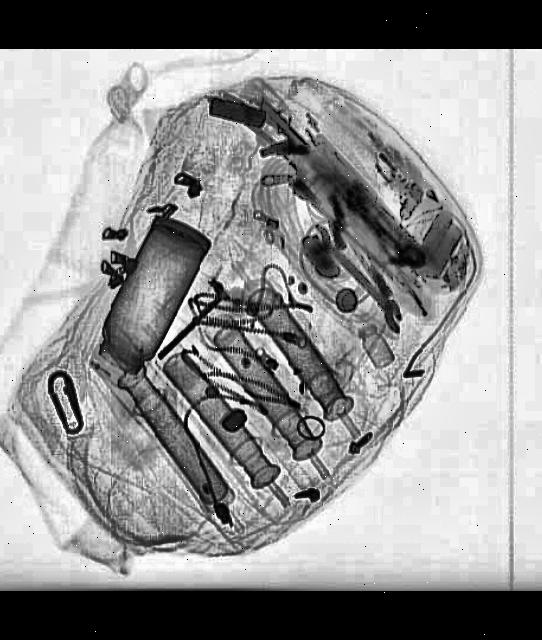Wrench: (304, 220, 414, 336)
